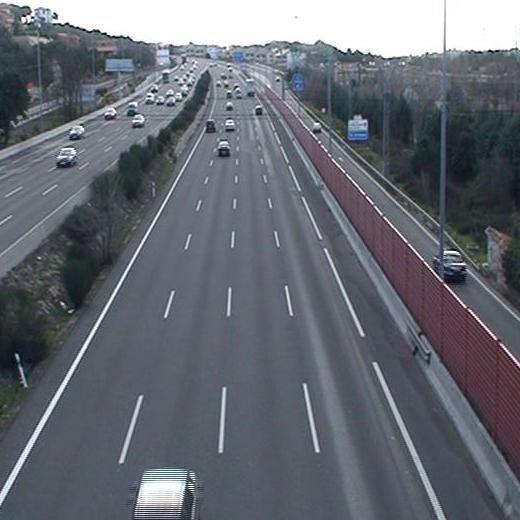car: (215, 137, 233, 158), (205, 118, 218, 135), (224, 118, 238, 133), (252, 104, 265, 117)
